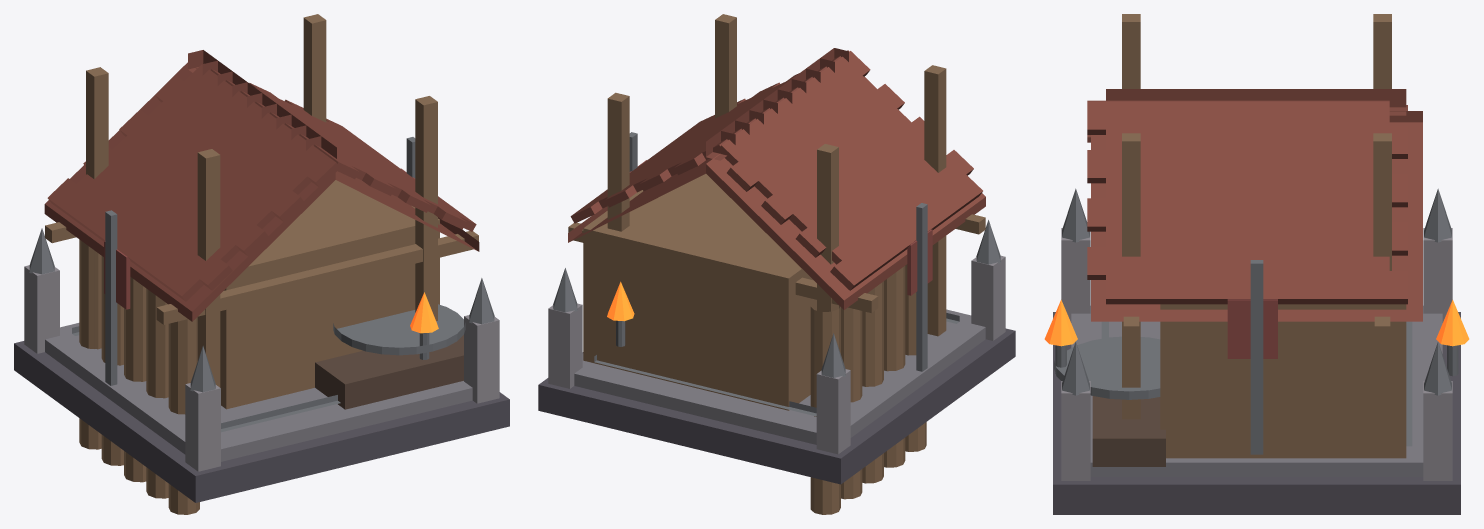
File: sawmill.glb
3 views of the same model, side by side, from view 1: azimuth 30°, elevation 25°; view 2: azimuth 150°, elevation 25°; view 3: azimuth 270°, elevation 25° (orthographic). The views are drawn at different scales.
Parts seen in each view (by area): view 1: Sawmill; view 2: Sawmill; view 3: Sawmill.
Boxes of the visible parts, x1,y1,x2,y2 form: Sawmill: (14, 14, 509, 514); Sawmill: (538, 14, 1015, 514); Sawmill: (1044, 14, 1469, 514).
Bounding box in the file's own units: 3.91 × 4.42 × 4.06.
